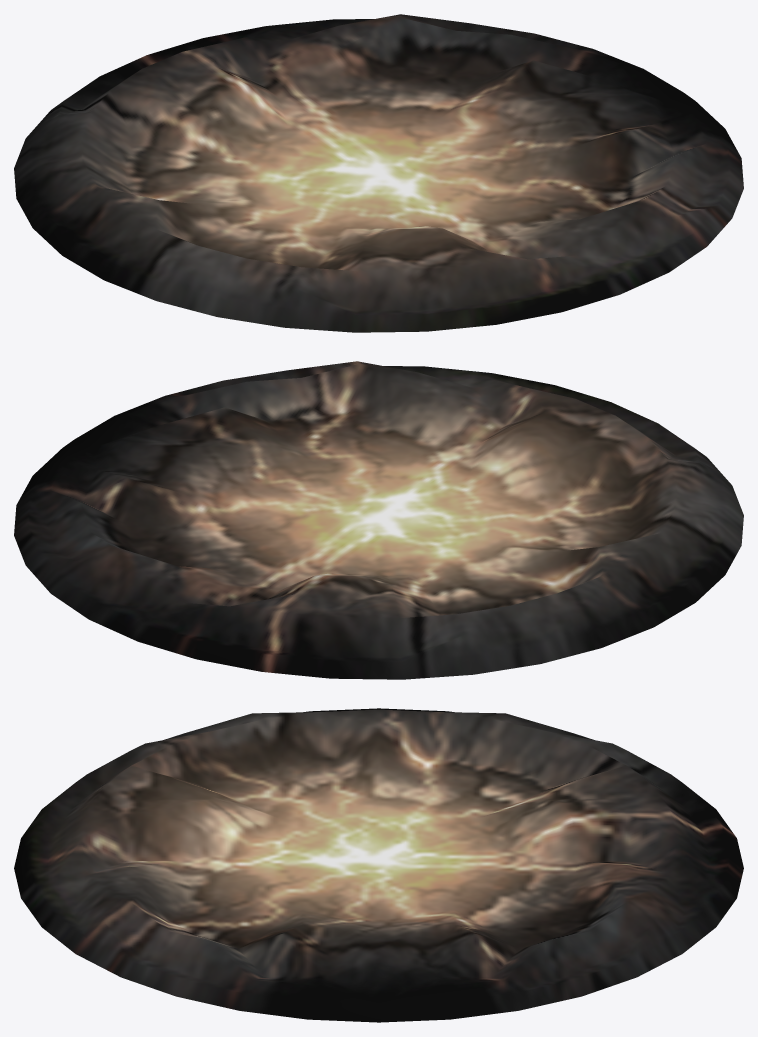
File: dilie151.FBX
3 views of the same model, one above another, from view 1: azimuth 30°, elevation 25°; view 2: azimuth 150°, elevation 25°; view 3: azimuth 270°, elevation 25° (orthographic).
Visible parts, largest first — view 1: Sphere002; view 2: Sphere002; view 3: Sphere002.
Part boxes in pixels (x1,y1,x2,y2): Sphere002: (14, 14, 743, 332); Sphere002: (14, 361, 743, 679); Sphere002: (14, 708, 743, 1022).
Bounding box in the file's own units: 342 × 18.33 × 342.
